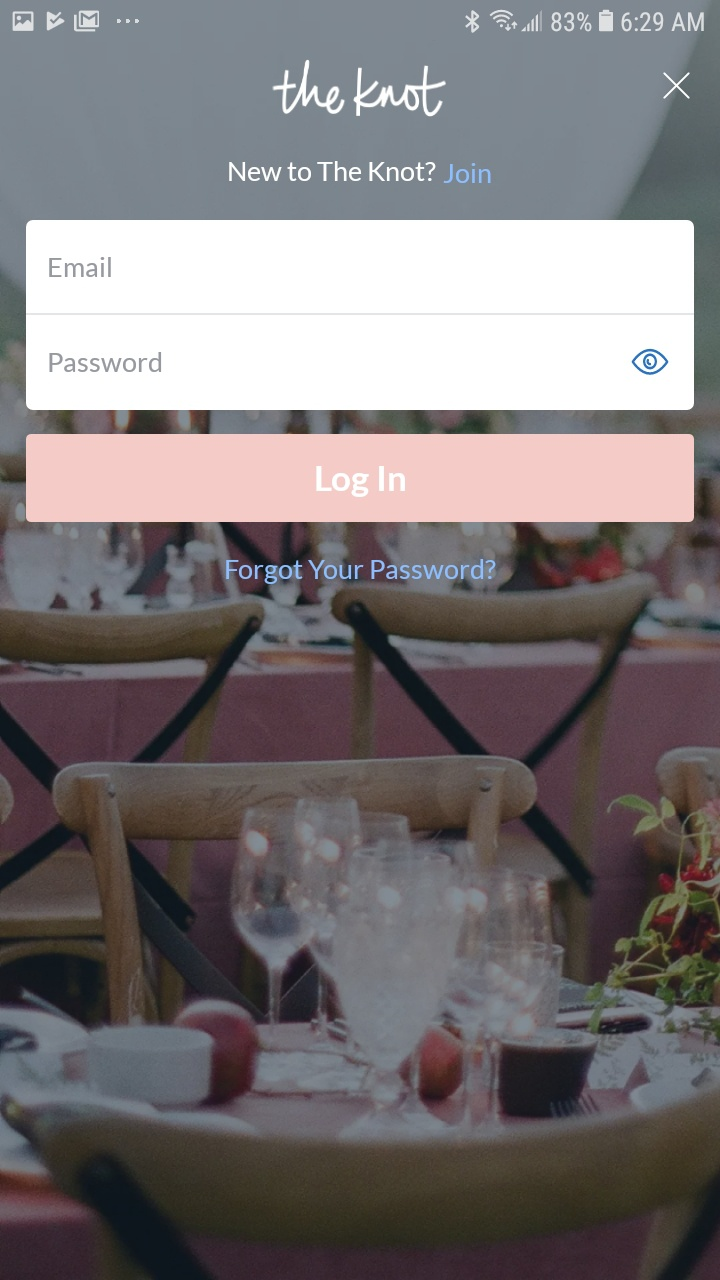BackgroundImage: (1, 35, 720, 1280)
EditText: (27, 314, 694, 411), (27, 221, 694, 316)
Icon: (631, 349, 669, 376), (662, 71, 691, 101)
Image: (273, 59, 448, 119)
Text: (226, 558, 497, 585), (229, 161, 437, 183), (50, 353, 162, 373), (50, 257, 112, 278), (442, 162, 492, 185)
TextButton: (27, 434, 695, 523)
UpperTaskBar: (1, 1, 720, 35)
